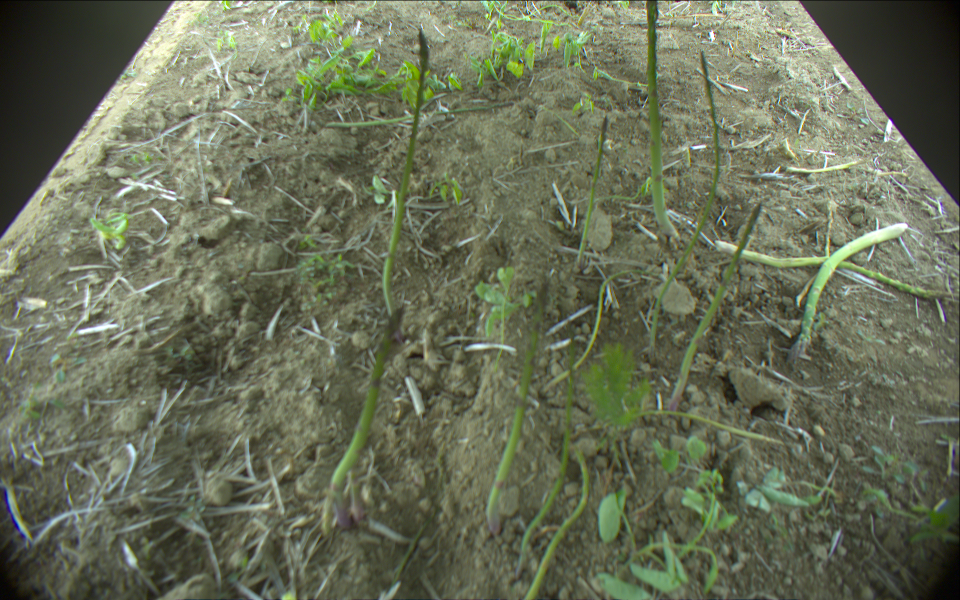aspa: (663, 201, 771, 412), (652, 51, 721, 362), (318, 309, 405, 533), (483, 278, 549, 535), (792, 218, 908, 361), (704, 236, 951, 303), (513, 318, 578, 564), (379, 27, 429, 318), (539, 266, 637, 399), (518, 443, 589, 600), (640, 1, 681, 236), (317, 98, 514, 130), (571, 114, 612, 266), (617, 410, 788, 444)
